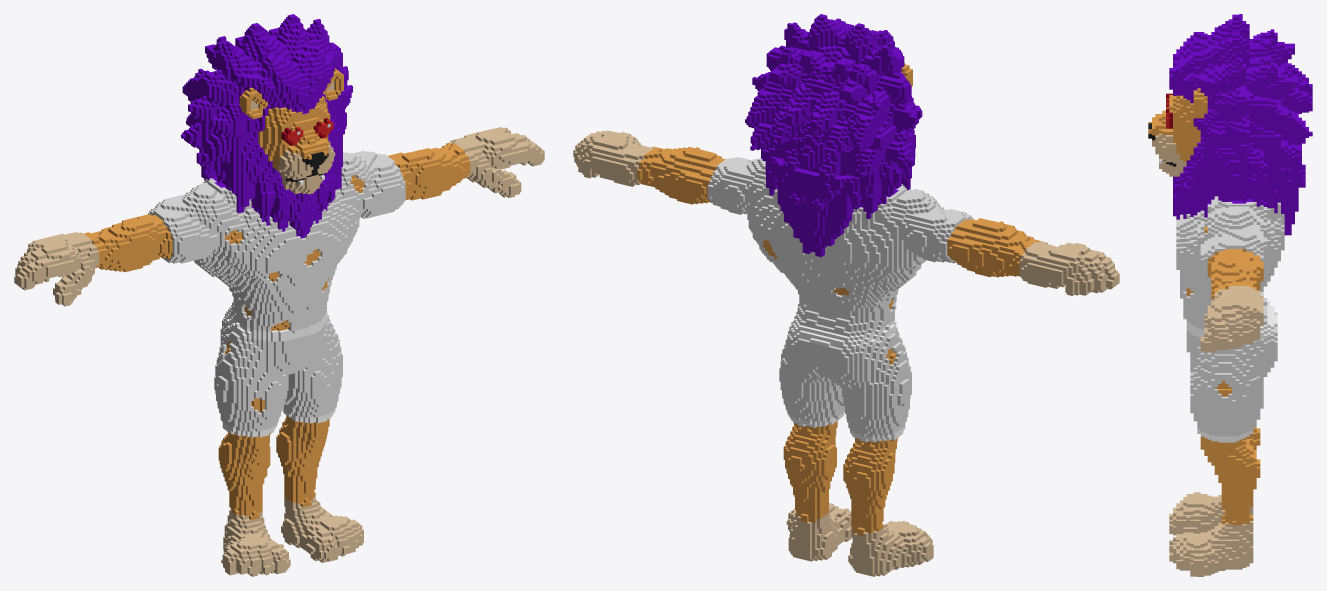
Rendered from 556-DN_38BTG.glb.
The picture shows the model from 3 angles, left to right: view 1: azimuth 30°, elevation 25°; view 2: azimuth 150°, elevation 25°; view 3: azimuth 270°, elevation 25°; orthographic projection. The views are drawn at different scales.
Visible parts, largest first — view 1: standard; view 2: standard; view 3: standard.
Part boxes in pixels (x1,y1,x2,y2): standard: [14, 14, 544, 576]; standard: [573, 14, 1119, 576]; standard: [1148, 14, 1312, 576].
Bounding box in the file's own units: 17.2 × 16.5 × 4.7.
5 materials, 5 textured.
